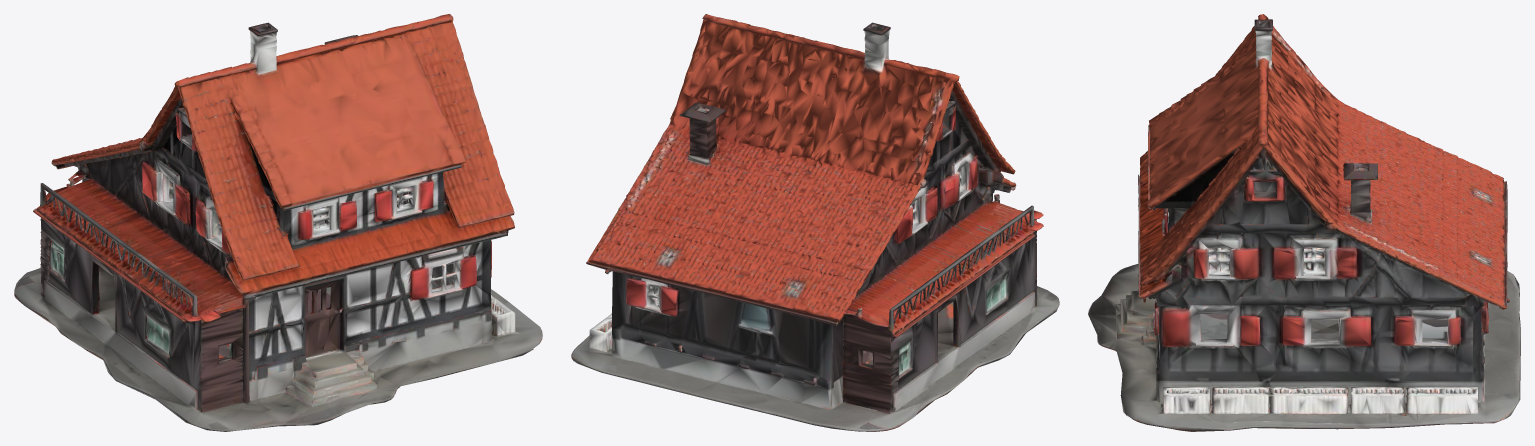
Rendered from house-opt.glb.
The picture shows the model from 3 angles, left to right: view 1: azimuth 30°, elevation 25°; view 2: azimuth 150°, elevation 25°; view 3: azimuth 270°, elevation 25°; orthographic projection. The views are drawn at different scales.
Size of the model in its own units: 1.8 by 1.47 by 1.9.
Materials: 1 (1 with a texture image).
